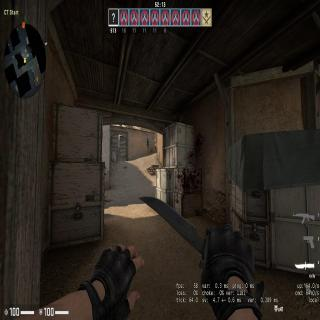CT-Body: (147, 138, 149, 147)
CT-Head: (148, 138, 148, 140)
